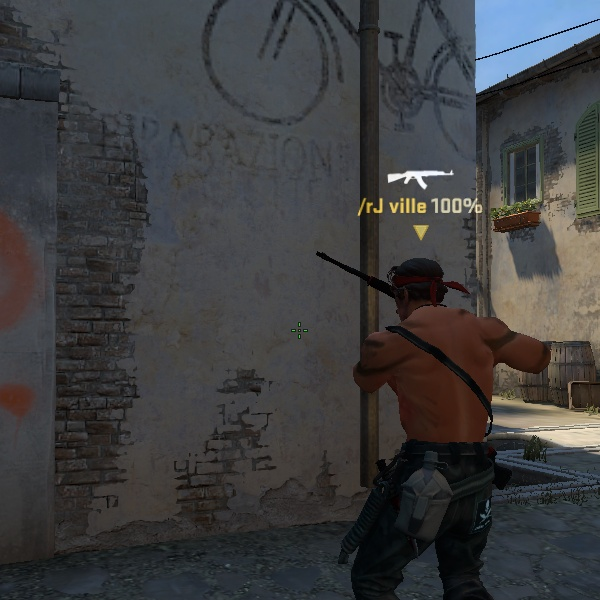t_body: (306, 250, 562, 599)
t_head: (370, 246, 466, 332)
